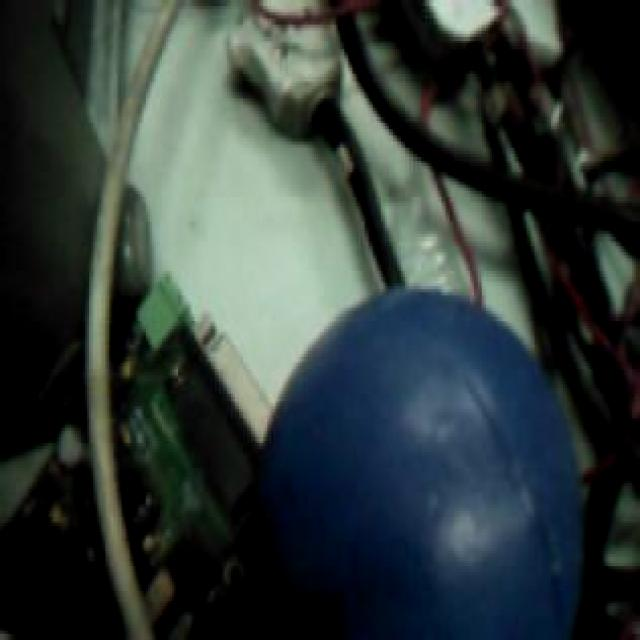BallPurple: (266, 285, 583, 640)
